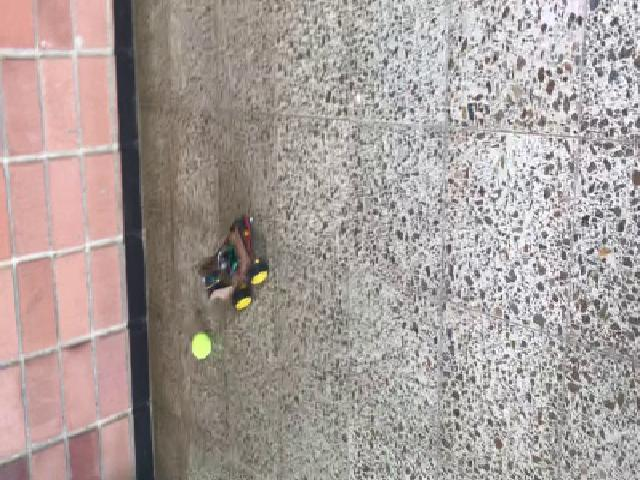Ball: (190, 334, 210, 359)
Robot: (197, 217, 267, 308)
